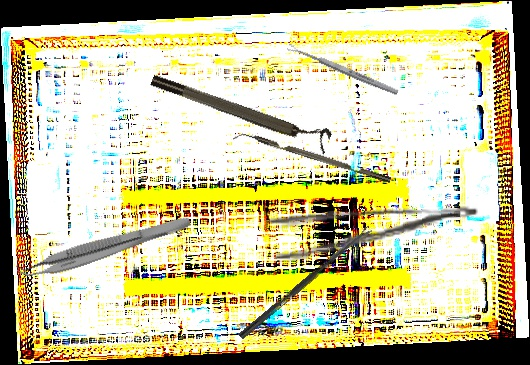Chopper: (232, 127, 392, 191)
Dressing Forceps: (269, 203, 481, 263)
Fixation Ring: (149, 63, 333, 156)
Surgical Spoon: (238, 225, 373, 341), (286, 42, 400, 97)
Tissue Forceps: (14, 205, 193, 287)
